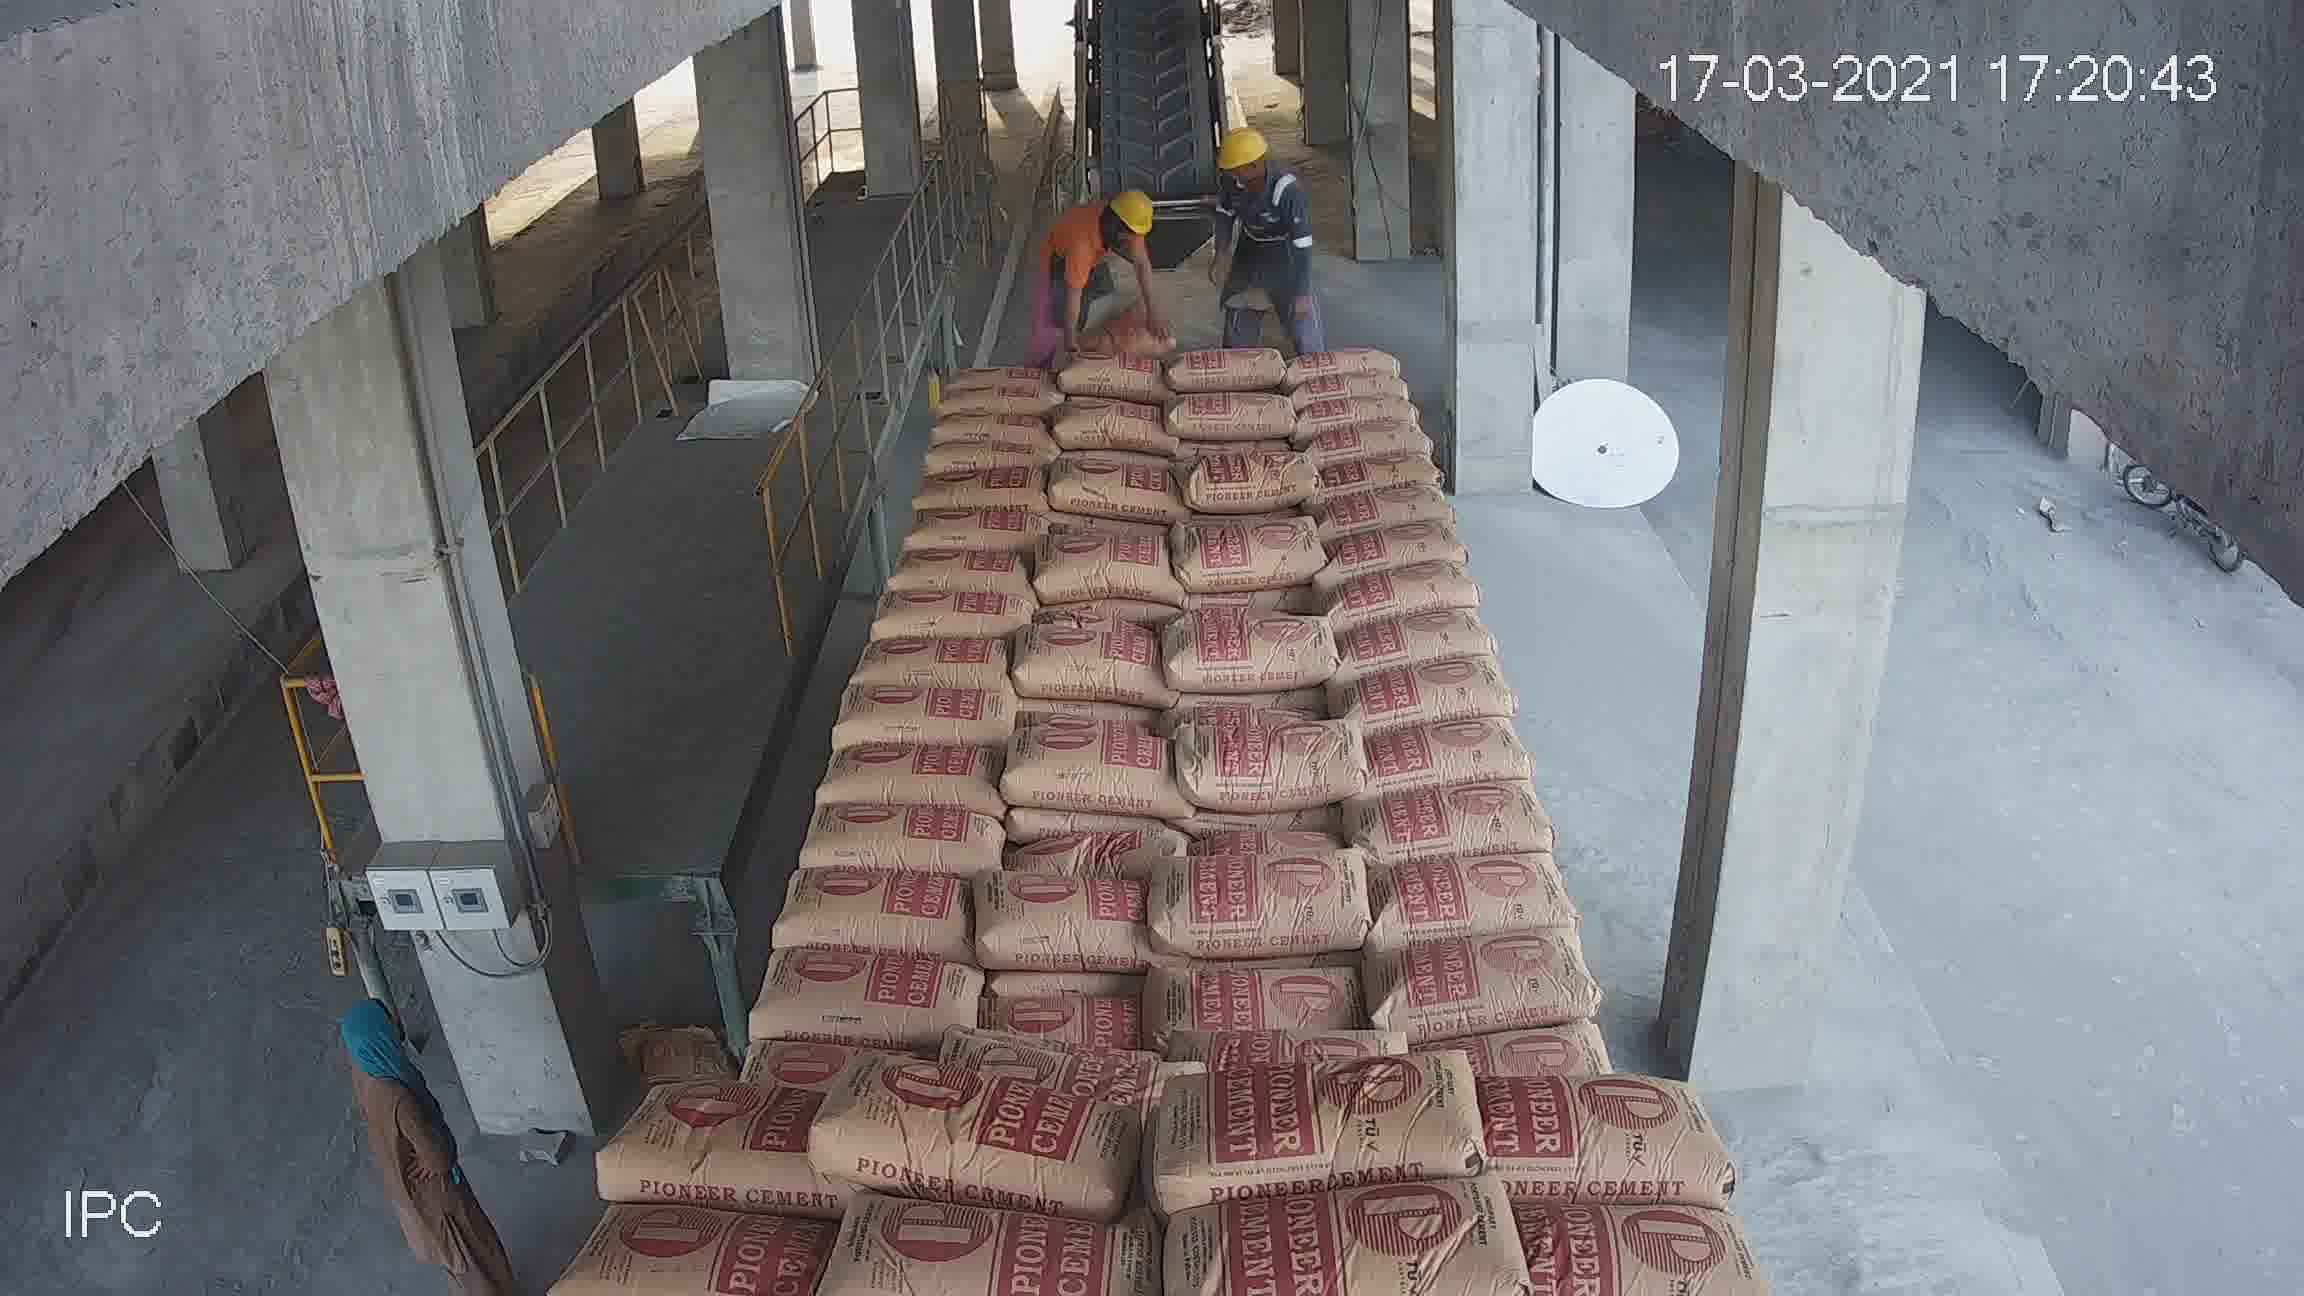bag: (1114, 280, 1245, 427), (1082, 5, 1206, 70)
bag_h: (804, 1025, 1135, 1207), (1147, 1033, 1502, 1201), (1161, 1154, 1560, 1296), (1135, 934, 1451, 1074), (862, 943, 1150, 1084), (798, 1192, 1207, 1290), (1136, 817, 1427, 946), (635, 940, 869, 1086), (1503, 1054, 1715, 1206), (589, 1060, 801, 1211), (1532, 1176, 1787, 1296), (869, 850, 1161, 949), (1432, 843, 1643, 980), (1445, 951, 1701, 1052), (673, 859, 877, 964), (544, 1215, 801, 1290), (807, 714, 1003, 804), (1157, 772, 1350, 840), (775, 790, 916, 866), (1415, 782, 1537, 862), (837, 680, 973, 747), (1160, 674, 1277, 748), (847, 630, 975, 690), (1163, 628, 1271, 687), (859, 597, 973, 649), (881, 544, 976, 598), (1192, 715, 1253, 798), (911, 513, 964, 552)
belt: (1006, 25, 1313, 562)
